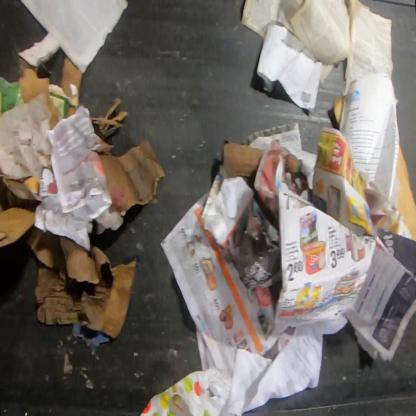cardboard: (27, 227, 137, 339), (95, 134, 165, 214), (18, 56, 62, 131), (218, 139, 264, 182), (397, 144, 415, 241), (0, 206, 35, 247), (48, 83, 79, 121), (61, 53, 83, 103), (331, 96, 345, 126)
